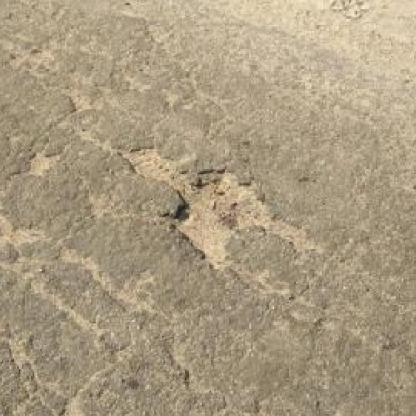pothole: (119, 144, 311, 270)
